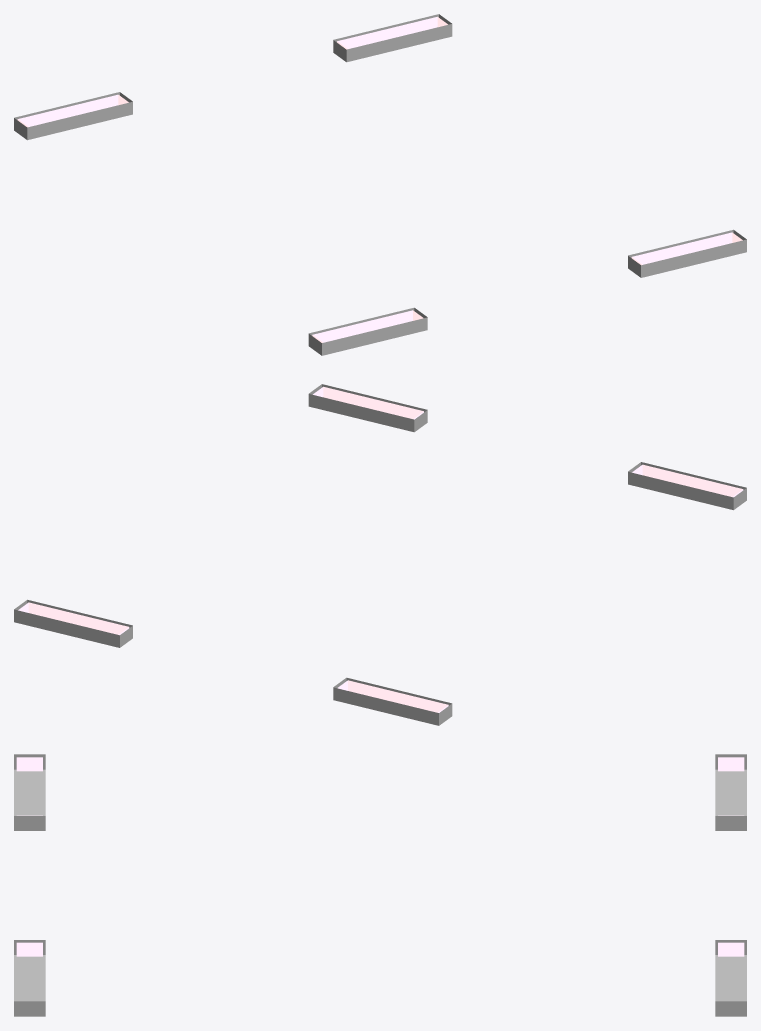
File: carriage-lighting.glb
The picture shows the model from 3 angles, top to bottom: view 1: azimuth 30°, elevation 25°; view 2: azimuth 150°, elevation 25°; view 3: azimuth 270°, elevation 25°; orthographic projection. The views are drawn at different scales.
Visible parts, largest first — view 1: Cube.001_Cube / Plastic, Cube.001_Cube / LED; view 2: Cube.001_Cube / Plastic, Cube.001_Cube / LED; view 3: Cube.001_Cube / Plastic, Cube.001_Cube / LED.
Part boxes in pixels (x1,y1,x2,y2): Cube.001_Cube / Plastic: [14, 14, 746, 355]; Cube.001_Cube / LED: [17, 16, 742, 342]; Cube.001_Cube / Plastic: [14, 384, 746, 725]; Cube.001_Cube / LED: [18, 386, 743, 712]; Cube.001_Cube / Plastic: [14, 754, 746, 1016]; Cube.001_Cube / LED: [16, 757, 744, 956].
Bounding box in the file's own units: 5.1 × 0.16 × 6.4.
